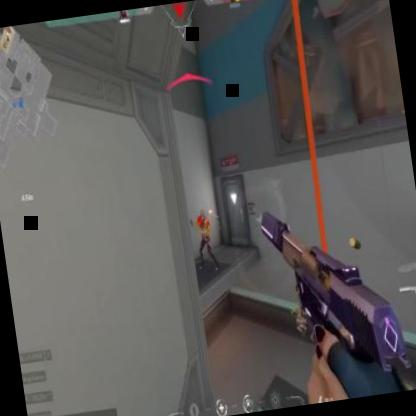enemy: (191, 206, 220, 272)
enemy_head: (199, 209, 206, 222)
